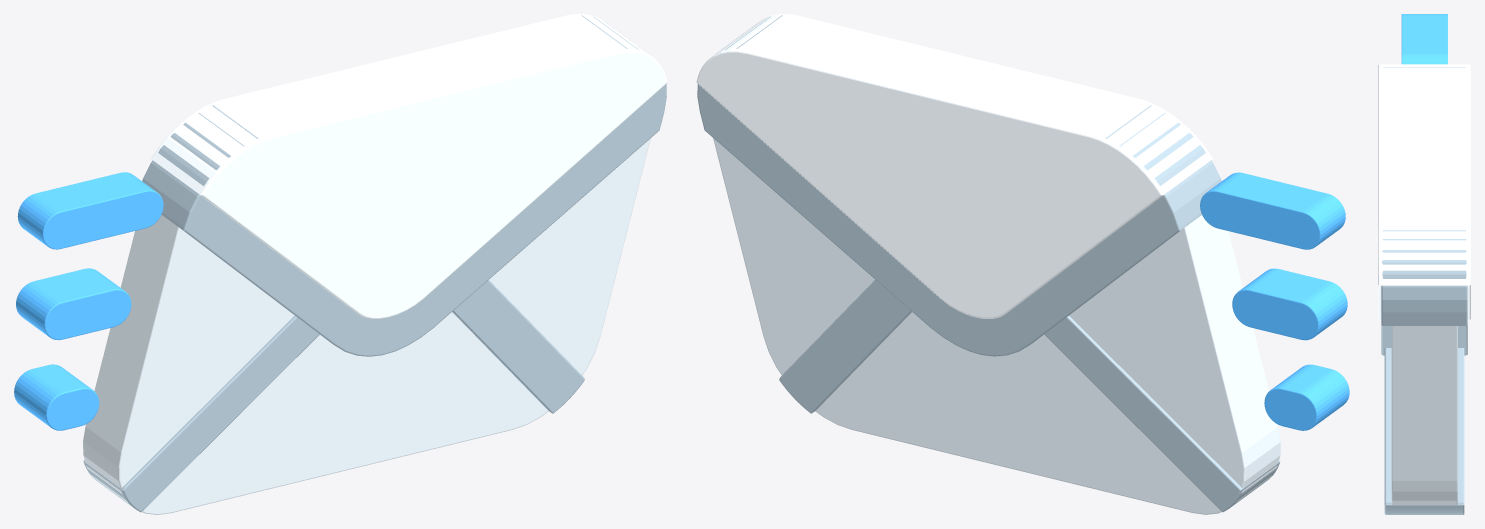
The model's file is message.glb.
3 renders of one model, left to right at view 1: azimuth 30°, elevation 25°; view 2: azimuth 150°, elevation 25°; view 3: azimuth 270°, elevation 25°, orthographic. The views are drawn at different scales.
Parts seen in each view (by area): view 1: FlatEmoji; view 2: FlatEmoji; view 3: FlatEmoji.
Part boxes in pixels (<box>): FlatEmoji: <box>14,14,667,514</box>; FlatEmoji: <box>696,14,1349,514</box>; FlatEmoji: <box>1378,14,1470,514</box>.
Bounding box in the file's own units: 3.25 × 1.82 × 0.4694.
